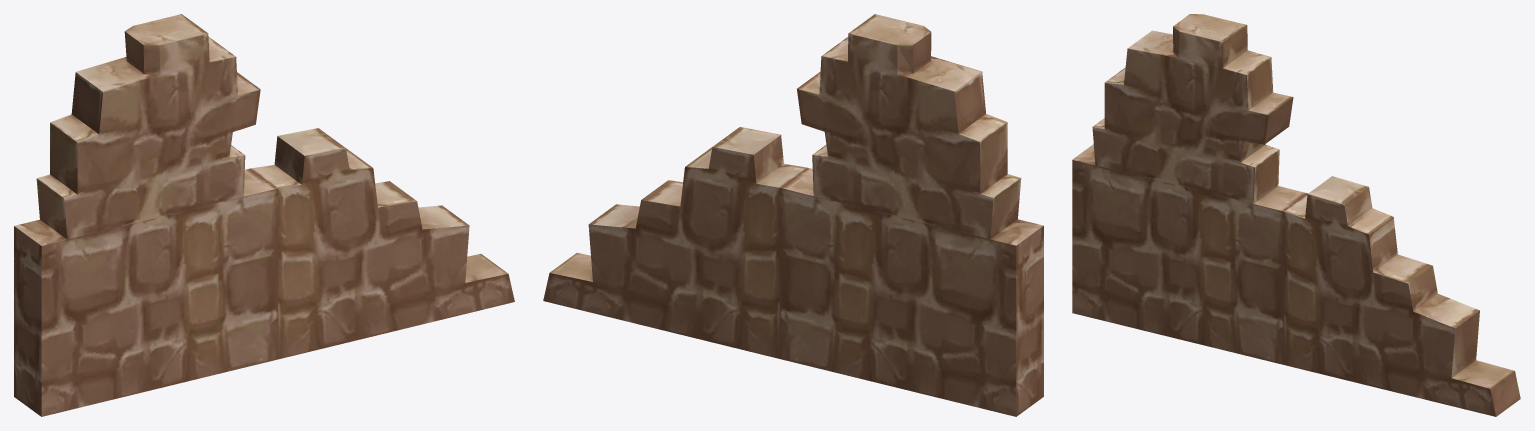
The model's file is YiJi_qiang_01.fbx.
3 renders of one model, left to right at view 1: azimuth 30°, elevation 25°; view 2: azimuth 150°, elevation 25°; view 3: azimuth 330°, elevation 25°, orthographic. The views are drawn at different scales.
Parts seen in each view (by area): view 1: YiJi_qiang_01; view 2: YiJi_qiang_01; view 3: YiJi_qiang_01.
Part boxes in pixels (box(x1,y1,x2,y2)): YiJi_qiang_01: box(14, 14, 514, 416); YiJi_qiang_01: box(543, 14, 1043, 416); YiJi_qiang_01: box(1072, 14, 1520, 416).
Bounding box in the file's own units: 9.29 × 6.42 × 0.9525.
